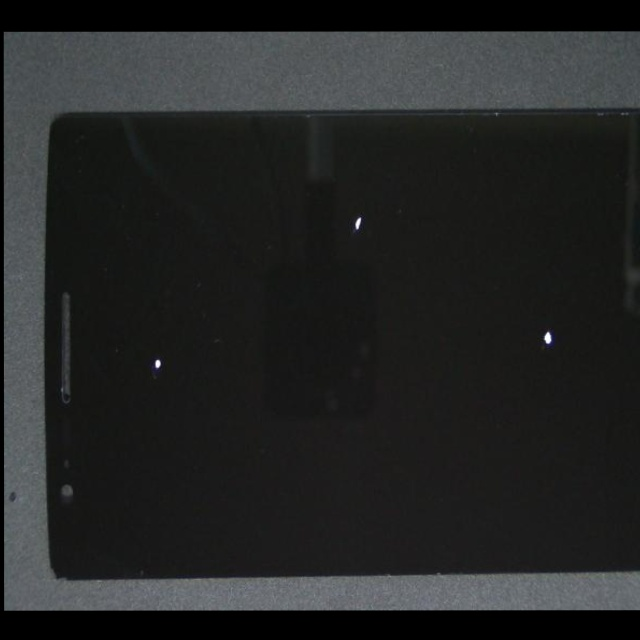stain: (294, 164, 640, 453), (188, 95, 527, 293), (60, 165, 208, 524)
